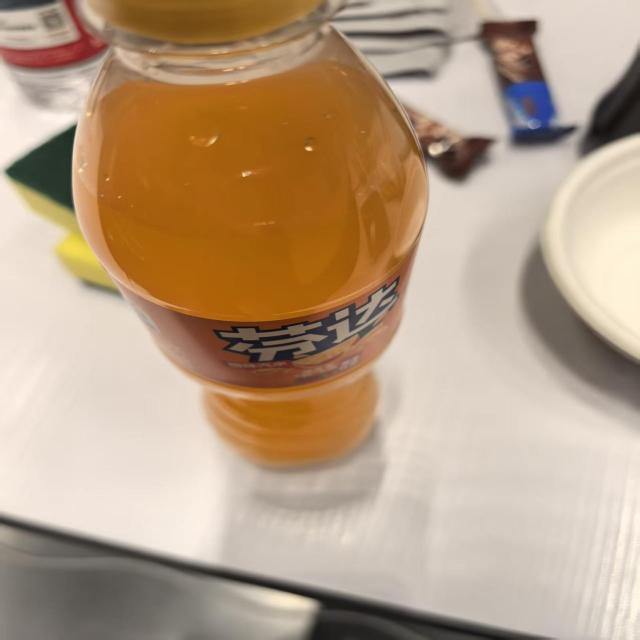orange: (222, 278, 406, 382)
